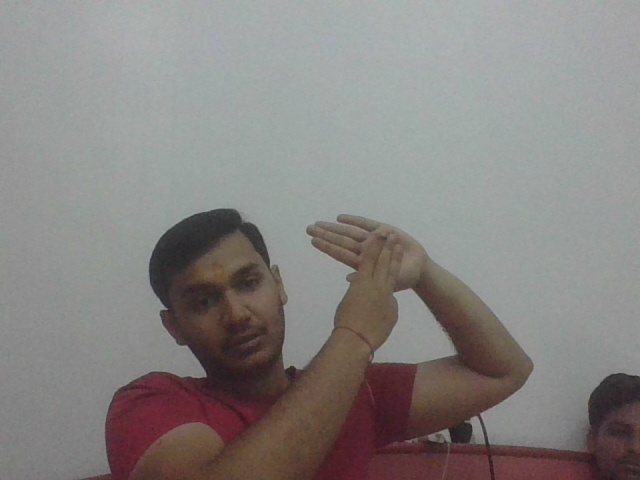M: (305, 211, 425, 319)
